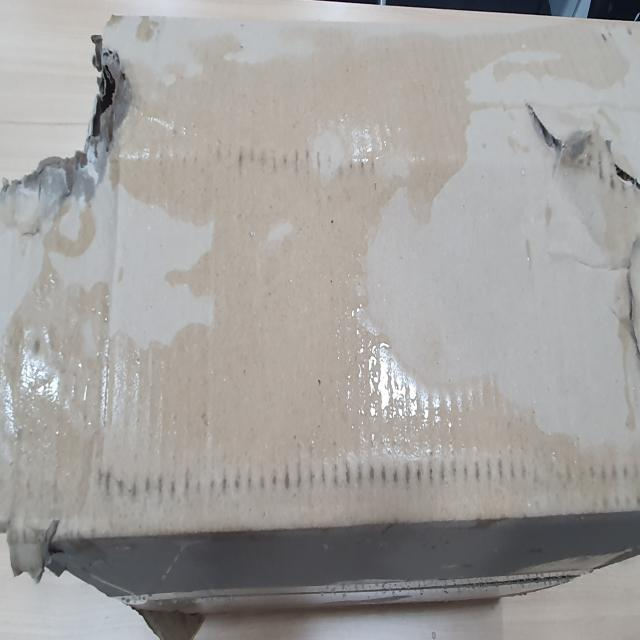hole: (506, 91, 640, 197), (84, 23, 158, 143)
wet: (2, 20, 630, 535)
